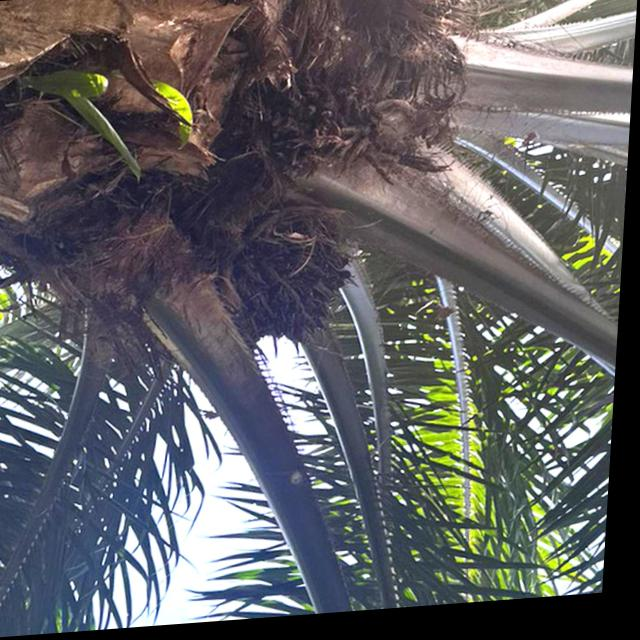ripe: (229, 218, 361, 351)
